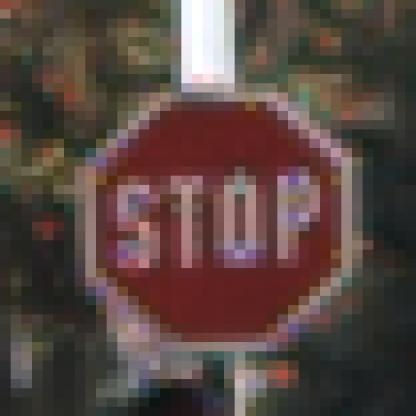stop: (89, 68, 359, 350)
